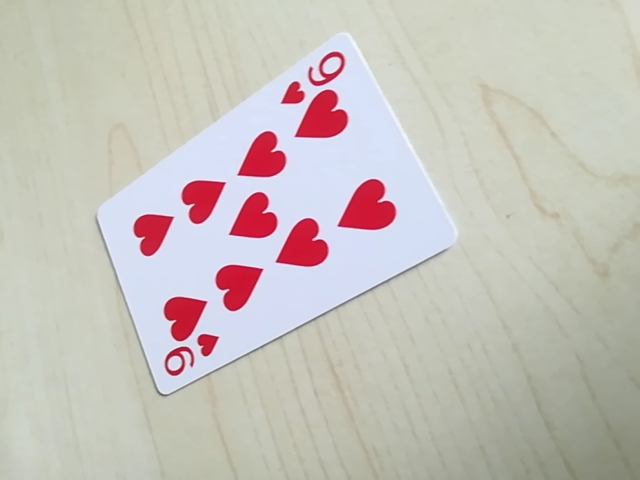hx 9: (278, 45, 351, 102), (157, 334, 221, 386)
